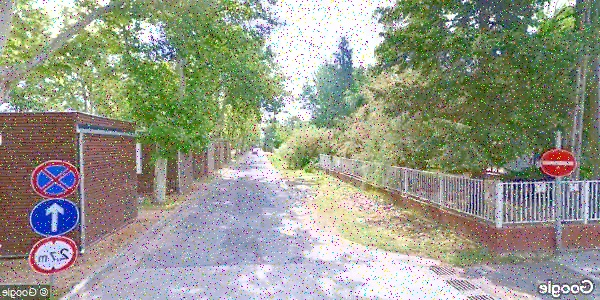d_no_entry: (539, 147, 577, 177)
e_no_stop_park: (31, 159, 80, 198)
f_others: (28, 236, 79, 275)
